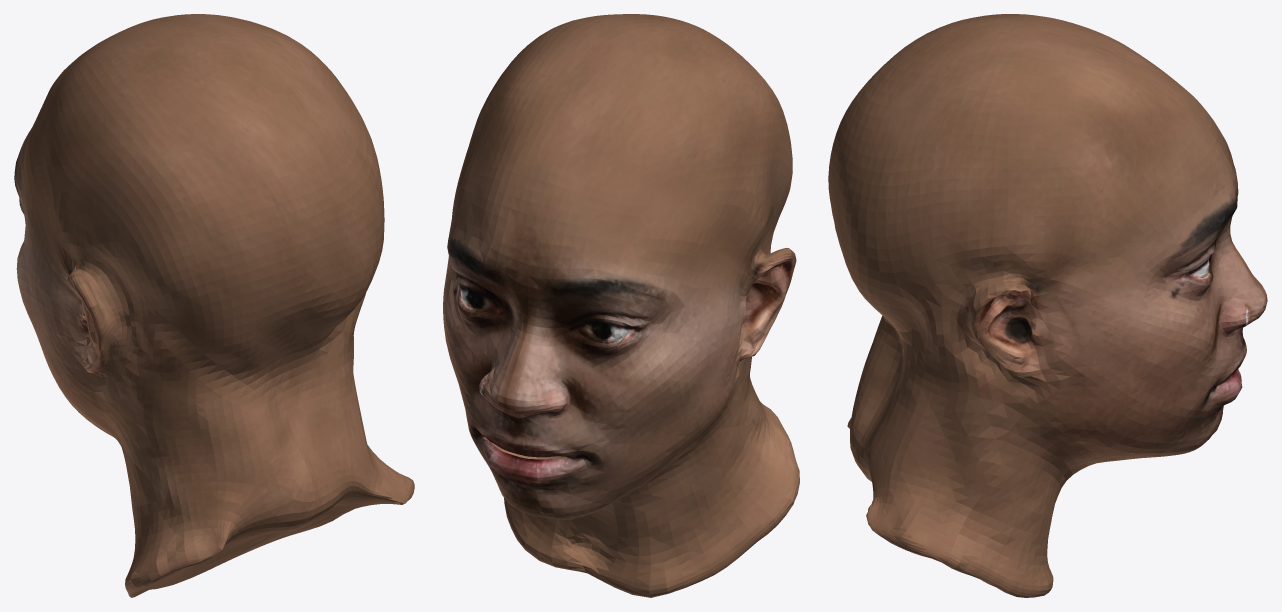
3 renders of one model, left to right at view 1: azimuth 30°, elevation 25°; view 2: azimuth 150°, elevation 25°; view 3: azimuth 270°, elevation 25°, orthographic.
Parts seen in each view (by area): view 1: Taj; view 2: Taj; view 3: Taj.
Part boxes in pixels (x1=…): Taj: x1=14, y1=14, x2=414, y2=597; Taj: x1=443, y1=14, x2=799, y2=597; Taj: x1=828, y1=14, x2=1267, y2=597.
Bounding box in the file's own units: 277 × 475 × 348.
1 material, 1 textured.
